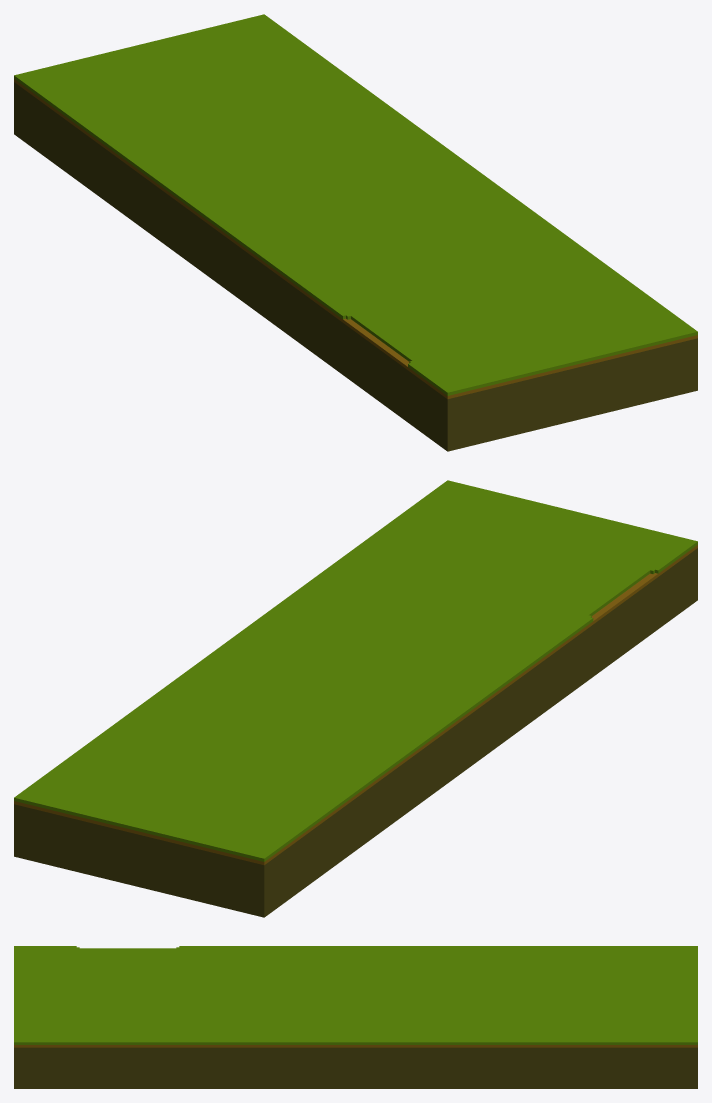
The model's file is Tab D1-0.obj.
3 renders of one model, top to bottom at view 1: azimuth 30°, elevation 25°; view 2: azimuth 150°, elevation 25°; view 3: azimuth 270°, elevation 25°, orthographic. The views are drawn at different scales.
Bounding box in the file's own units: 8 × 1.8 × 24.
Materials: 1 (1 with a texture image).
